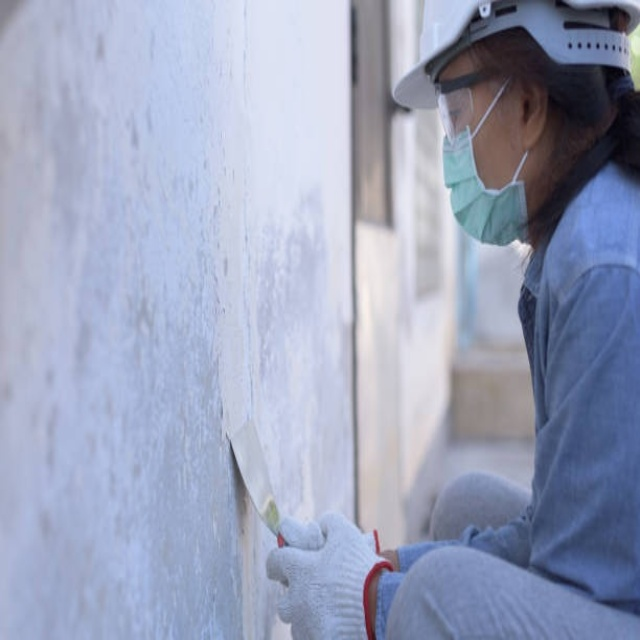Gafas: (437, 69, 516, 145)
Guantes: (267, 507, 380, 631)
Mascara: (441, 113, 538, 248)
